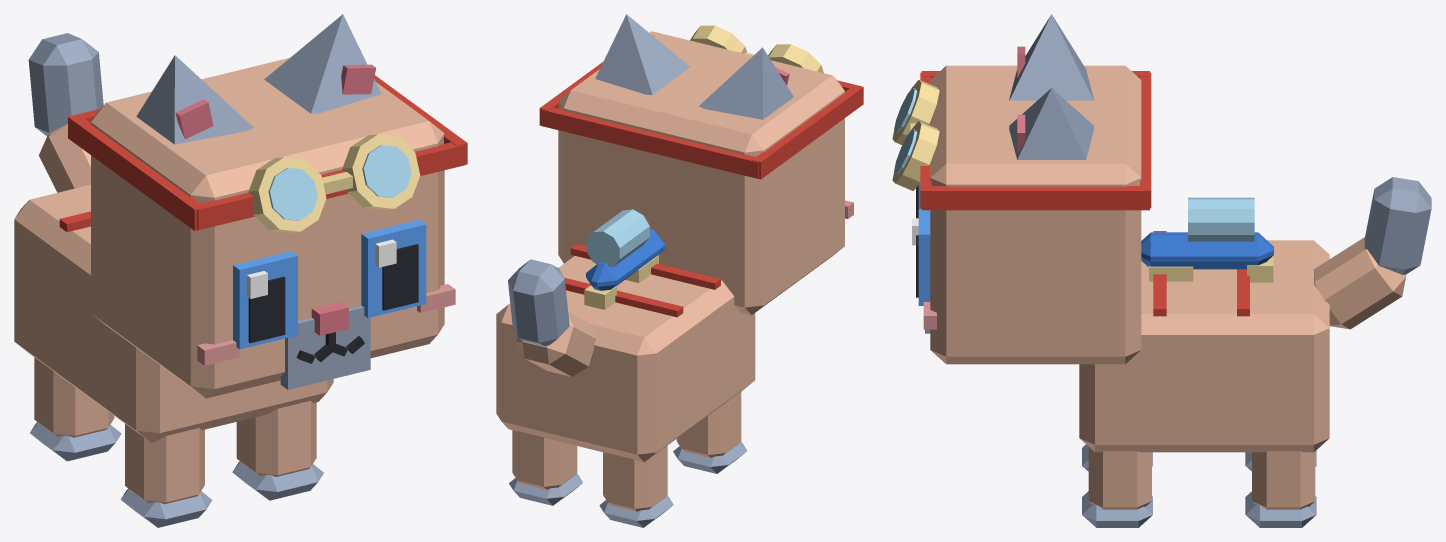
File: CatCafe_Cat_WaterGun.glb
3 views of the same model, side by side, from view 1: azimuth 30°, elevation 25°; view 2: azimuth 150°, elevation 25°; view 3: azimuth 270°, elevation 25° (orthographic). The views are drawn at different scales.
Visible parts, largest first — view 1: CatCafe_Cat_WaterGun_Head, CatCafe_Cat_WaterGun_Body, CatCafe_Cat_WaterGun_Prop2, CatCafe_Cat_WaterGun_Tail, CatCafe_Cat_WaterGun_LegF2, CatCafe_Cat_WaterGun_LegF1, CatCafe_Cat_WaterGun_EarL, CatCafe_Cat_WaterGun_Eye1, CatCafe_Cat_WaterGun_Eye2, CatCafe_Cat_WaterGun_LegB2, CatCafe_Cat_WaterGun_EarR; view 2: CatCafe_Cat_WaterGun_Head, CatCafe_Cat_WaterGun_Body, CatCafe_Cat_WaterGun_Prop2, CatCafe_Cat_WaterGun_Tail, CatCafe_Cat_WaterGun_Prop, CatCafe_Cat_WaterGun_LegB2, CatCafe_Cat_WaterGun_EarL, CatCafe_Cat_WaterGun_LegB1, CatCafe_Cat_WaterGun_EarR, CatCafe_Cat_WaterGun_LegF2, CatCafe_Cat_WaterGun_Tank_Glow; view 3: CatCafe_Cat_WaterGun_Head, CatCafe_Cat_WaterGun_Body, CatCafe_Cat_WaterGun_Prop2, CatCafe_Cat_WaterGun_Tail, CatCafe_Cat_WaterGun_Prop, CatCafe_Cat_WaterGun_LegF1, CatCafe_Cat_WaterGun_LegB1, CatCafe_Cat_WaterGun_EarR, CatCafe_Cat_WaterGun_EarL, CatCafe_Cat_WaterGun_Tank_Glow, CatCafe_Cat_WaterGun_Eye1.
Boxes of the visible parts, x1,y1,x2,y2 form: CatCafe_Cat_WaterGun_Head: (91, 58, 455, 398); CatCafe_Cat_WaterGun_Body: (14, 184, 333, 442); CatCafe_Cat_WaterGun_Prop2: (68, 75, 467, 232); CatCafe_Cat_WaterGun_Tail: (28, 33, 103, 192); CatCafe_Cat_WaterGun_LegF2: (120, 424, 212, 527); CatCafe_Cat_WaterGun_LegF1: (232, 400, 323, 500); CatCafe_Cat_WaterGun_EarL: (264, 14, 381, 113); CatCafe_Cat_WaterGun_Eye1: (361, 219, 426, 317); CatCafe_Cat_WaterGun_Eye2: (233, 251, 297, 349); CatCafe_Cat_WaterGun_LegB2: (30, 357, 121, 461); CatCafe_Cat_WaterGun_EarR: (136, 55, 253, 144); CatCafe_Cat_WaterGun_Head: (558, 31, 853, 315); CatCafe_Cat_WaterGun_Body: (496, 256, 755, 462); CatCafe_Cat_WaterGun_Prop2: (539, 25, 863, 179); CatCafe_Cat_WaterGun_Tail: (508, 259, 596, 376); CatCafe_Cat_WaterGun_Prop: (564, 228, 720, 317); CatCafe_Cat_WaterGun_LegB2: (599, 445, 673, 527); CatCafe_Cat_WaterGun_EarL: (595, 14, 689, 94); CatCafe_Cat_WaterGun_LegB1: (509, 430, 582, 505); CatCafe_Cat_WaterGun_EarR: (699, 47, 793, 119); CatCafe_Cat_WaterGun_LegF2: (673, 391, 746, 473); CatCafe_Cat_WaterGun_Tank_Glow: (586, 209, 649, 267); CatCafe_Cat_WaterGun_Head: (923, 65, 1141, 364); CatCafe_Cat_WaterGun_Body: (1079, 240, 1329, 452); CatCafe_Cat_WaterGun_Prop2: (892, 71, 1151, 210); CatCafe_Cat_WaterGun_Tail: (1314, 177, 1431, 329); CatCafe_Cat_WaterGun_Prop: (1141, 231, 1273, 316); CatCafe_Cat_WaterGun_LegF1: (1082, 447, 1152, 527); CatCafe_Cat_WaterGun_LegB1: (1245, 451, 1316, 527); CatCafe_Cat_WaterGun_EarR: (1009, 14, 1093, 100); CatCafe_Cat_WaterGun_EarL: (1009, 88, 1093, 159); CatCafe_Cat_WaterGun_Tank_Glow: (1188, 197, 1254, 241); CatCafe_Cat_WaterGun_Eye1: (912, 209, 930, 305).
Bounding box in the file's own units: 1.08 × 1.86 × 2.04.
Materials: 1 (1 with a texture image).
